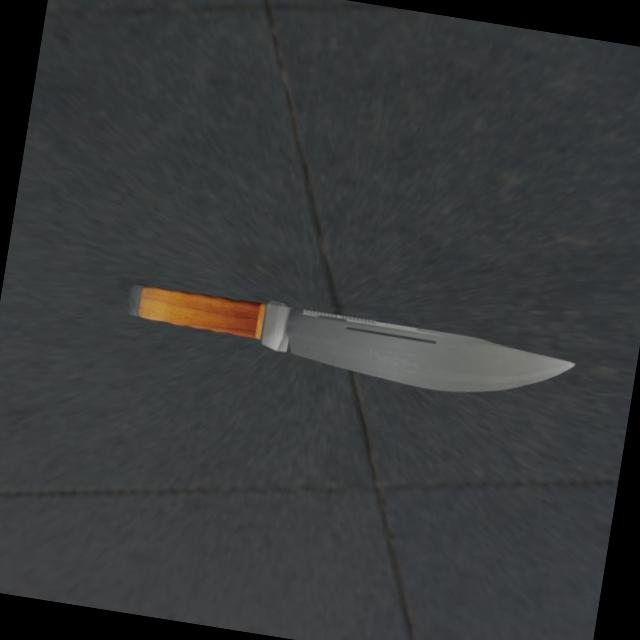knife: (107, 274, 292, 348)
